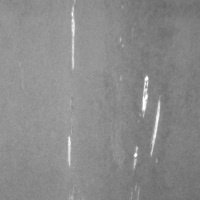scratches: (132, 92, 164, 164), (66, 1, 81, 73), (136, 72, 154, 123), (63, 131, 75, 172)
